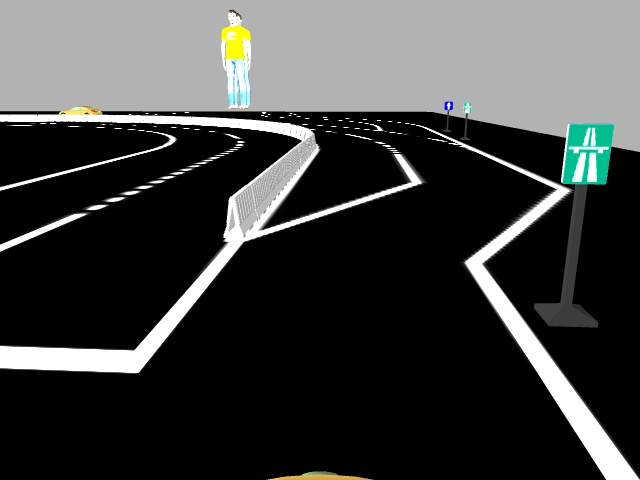HighwayEntrance: (560, 120, 610, 183)
